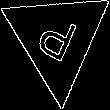P_SW: (32, 9, 83, 70)
